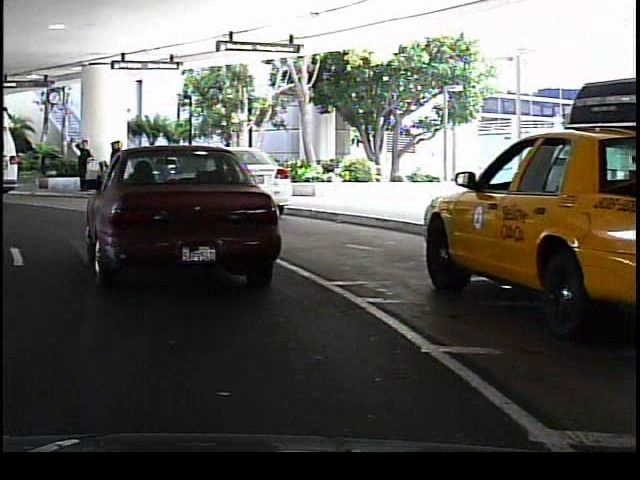person: (153, 145, 181, 196), (67, 138, 91, 196), (104, 140, 125, 191)
